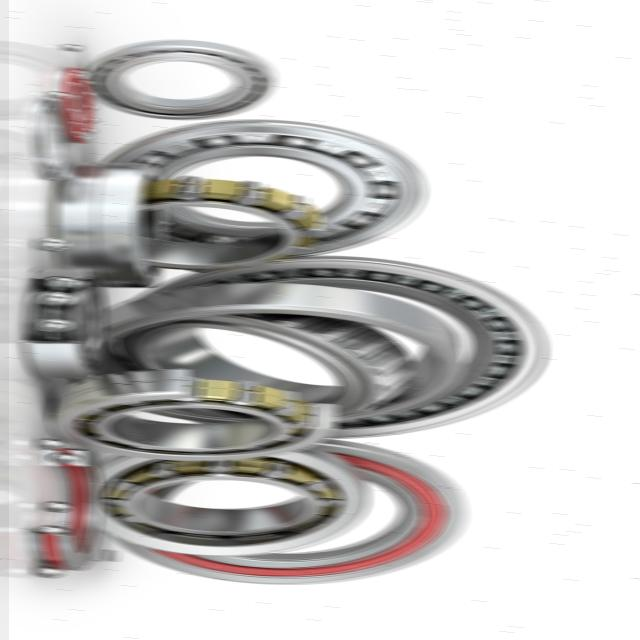Bearing: (154, 254, 548, 438), (104, 440, 472, 588), (106, 282, 468, 418), (100, 119, 428, 259), (88, 448, 372, 557), (43, 368, 345, 460), (123, 175, 330, 271), (82, 39, 277, 119), (28, 446, 112, 570), (18, 267, 110, 379), (52, 66, 104, 148)
